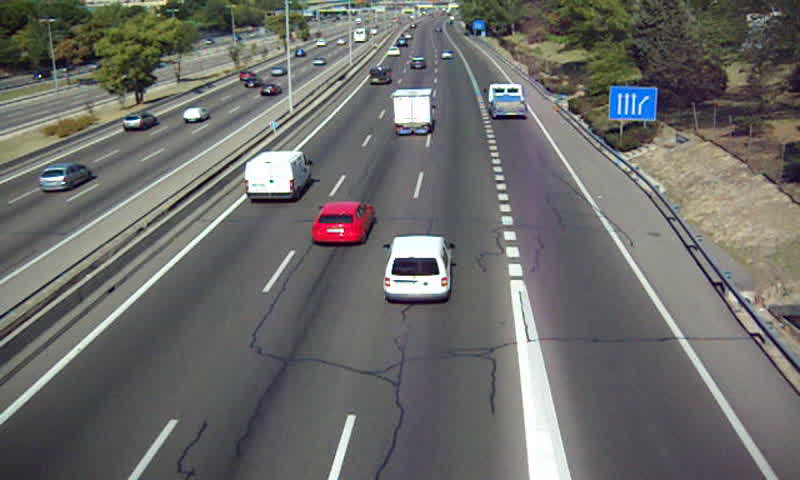car: (385, 236, 453, 301), (312, 201, 377, 244), (409, 56, 427, 72)
small-truck: (392, 87, 434, 134), (487, 82, 526, 119)
van: (244, 150, 313, 202), (367, 66, 392, 88)
